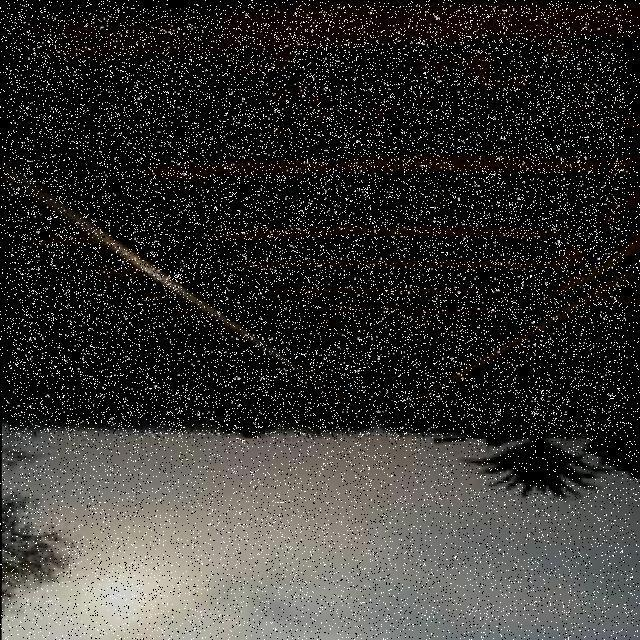rail: (8, 4, 625, 435)
